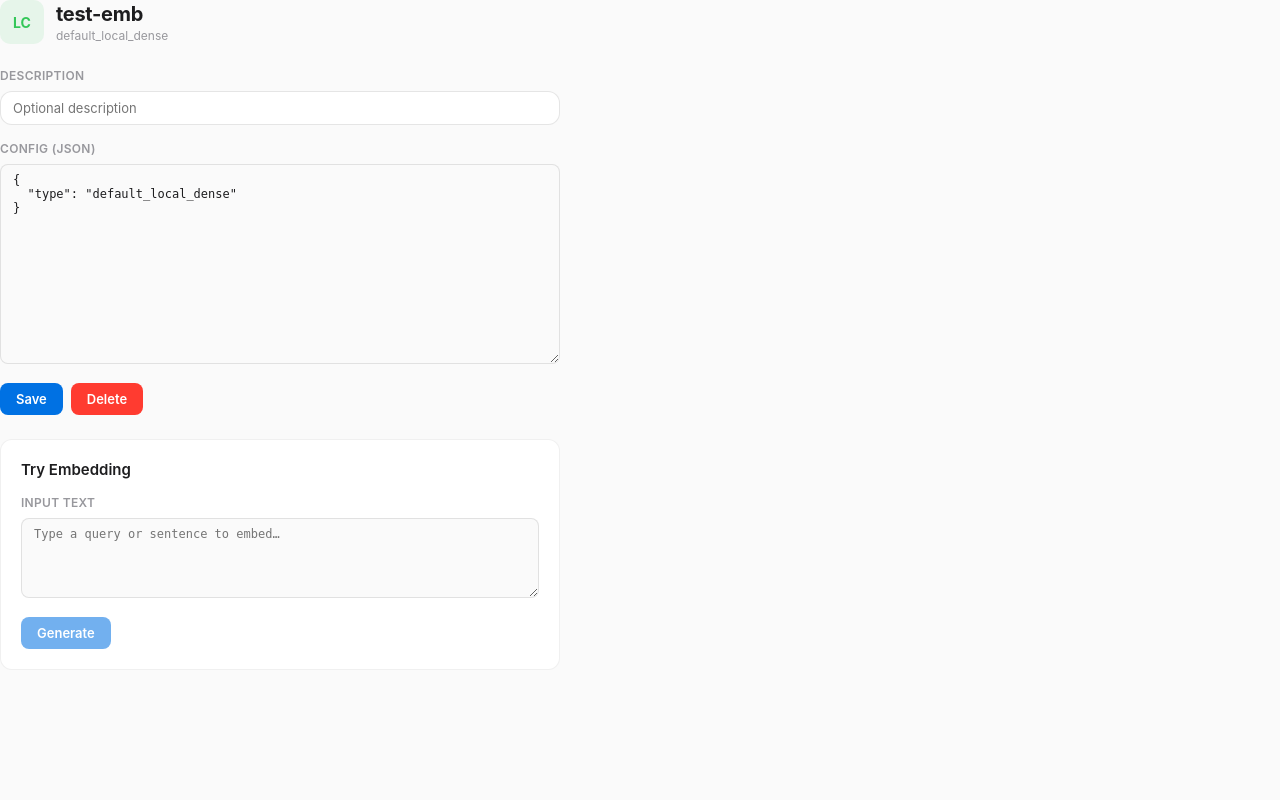
Scenario: EmbeddingDetailPage › opens delete confirmation dialog
Expected: the text "test-emb" is shown, [56, 2, 143, 26]
Step 1. Click the button "Delete" → (107, 399), box [71, 383, 143, 415]
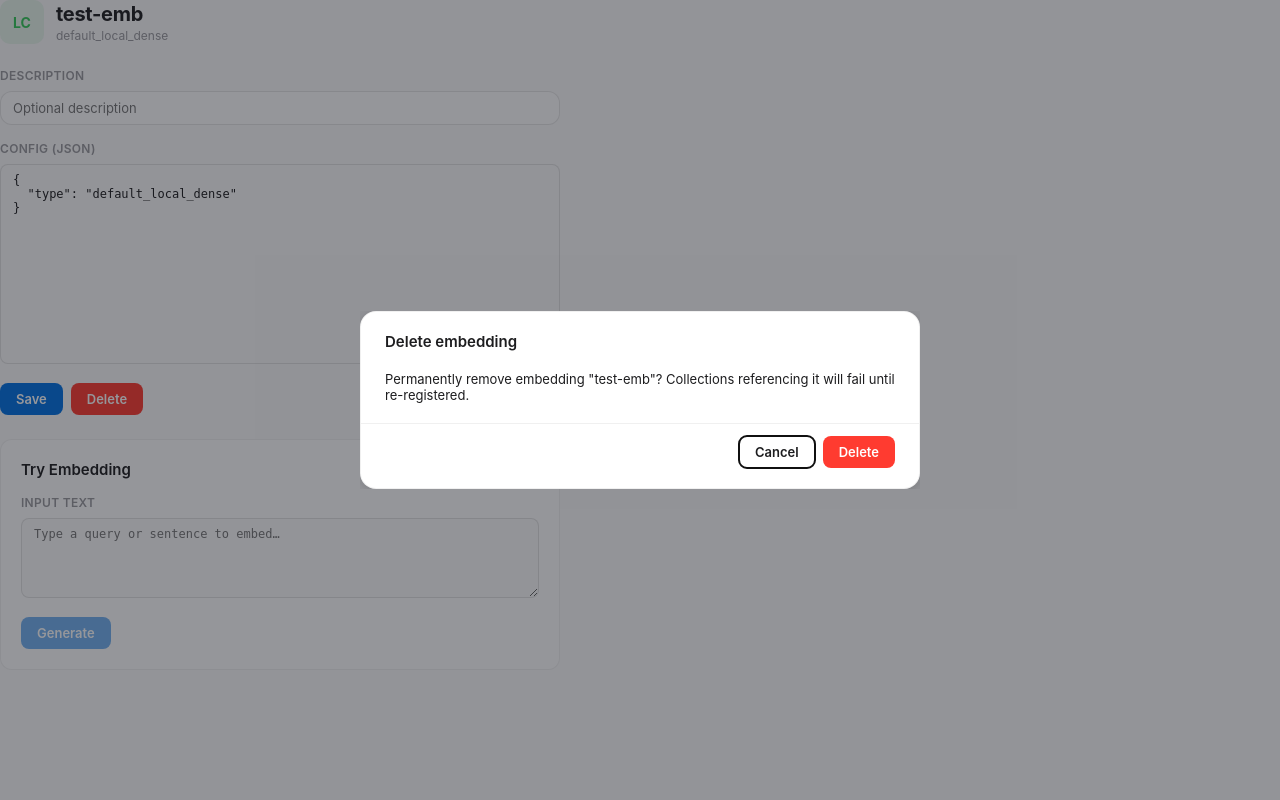
Now the text "Permanently remove" is shown, box [385, 371, 895, 403]
